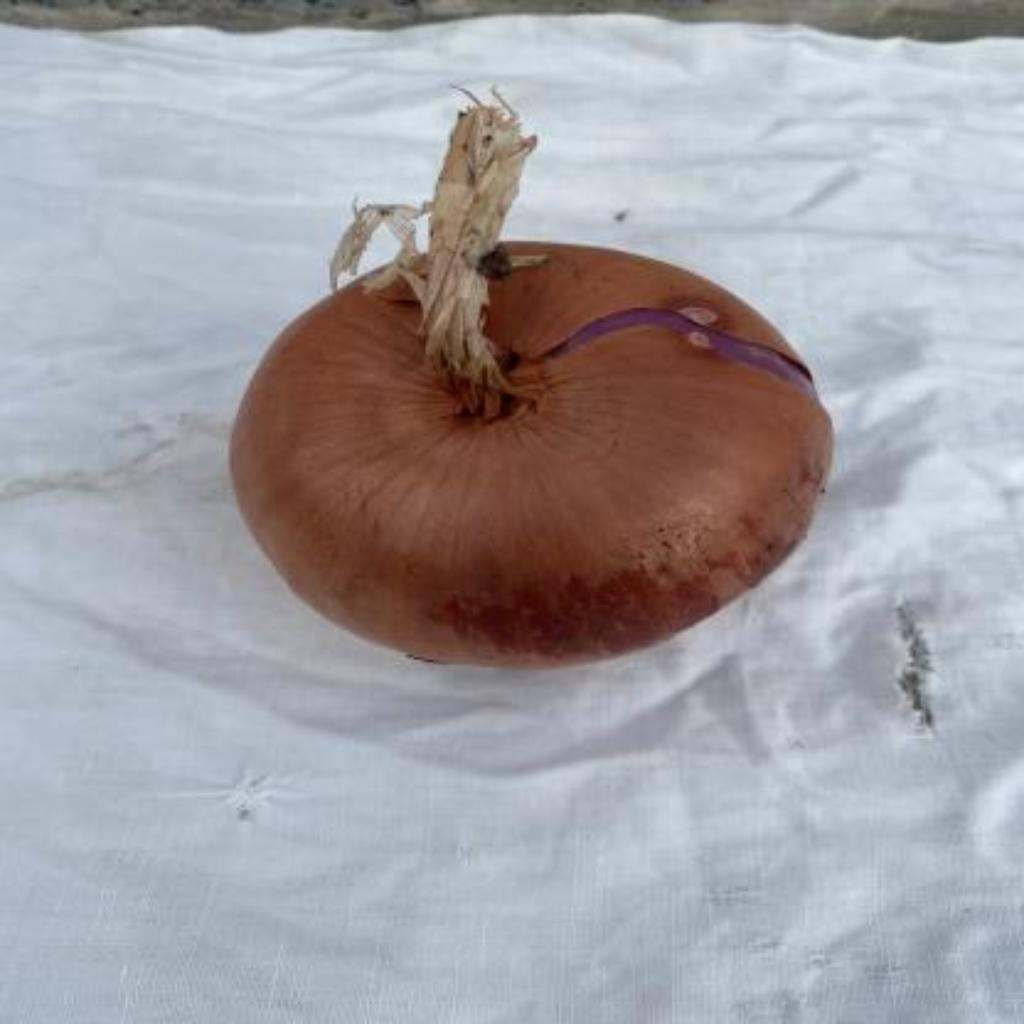Onion: (231, 94, 834, 666)
